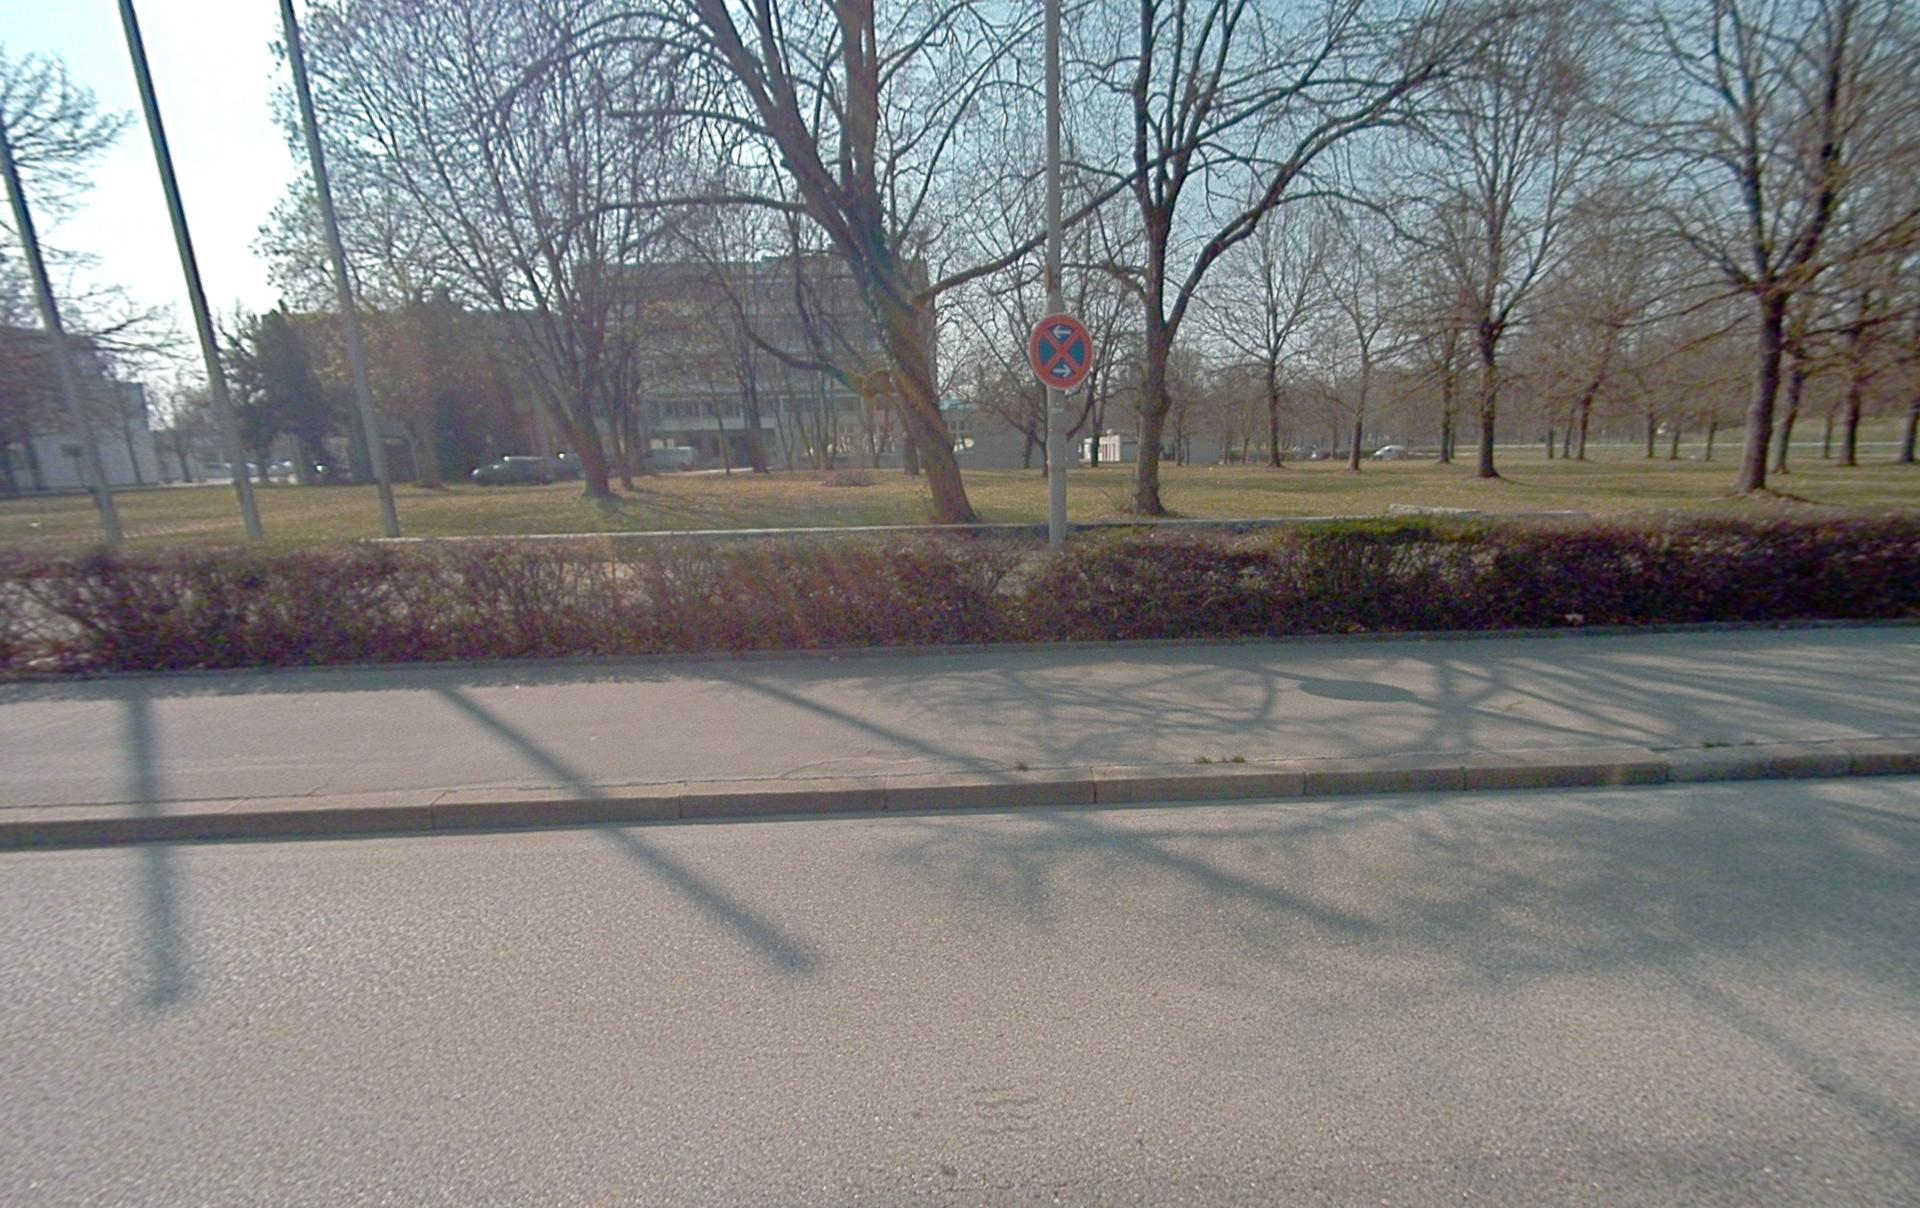car: (472, 455, 576, 486), (1373, 444, 1405, 461)
traffic sign: (1028, 313, 1094, 391)
